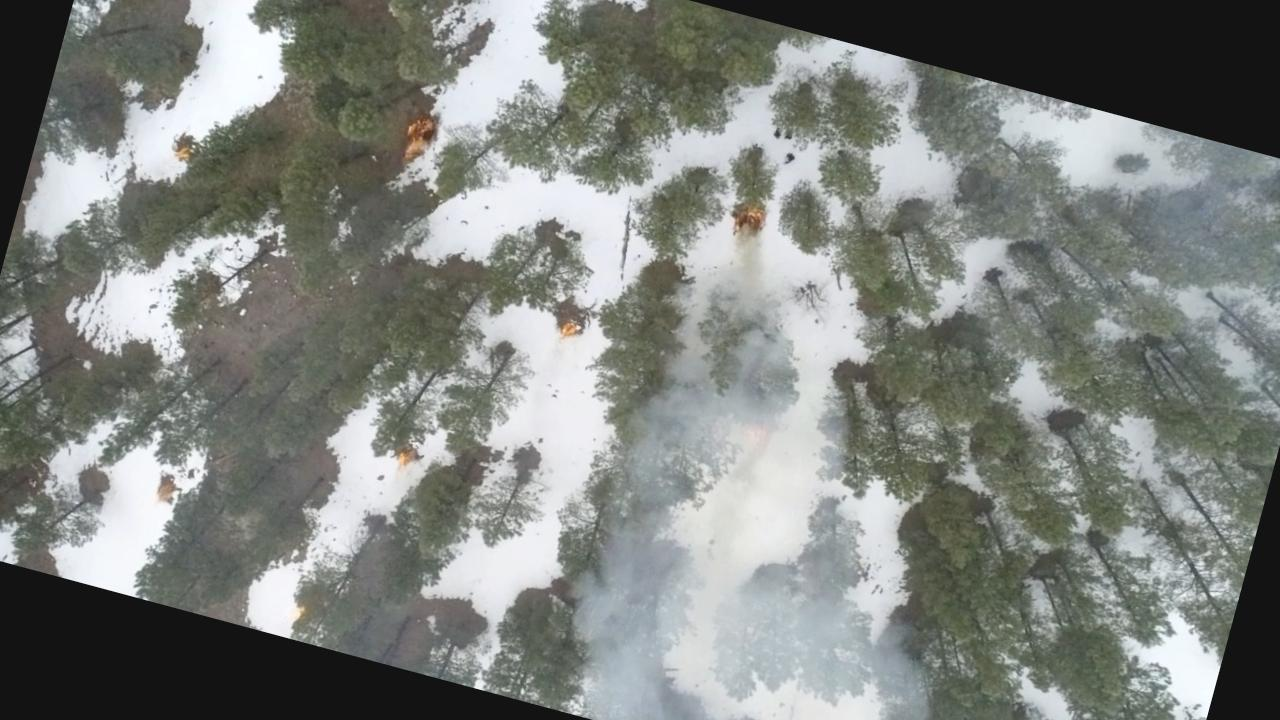fire: (396, 105, 449, 167), (729, 408, 780, 470), (721, 192, 776, 249), (550, 310, 588, 351), (388, 440, 422, 471)
smoke: (540, 480, 932, 720), (615, 307, 859, 534)
